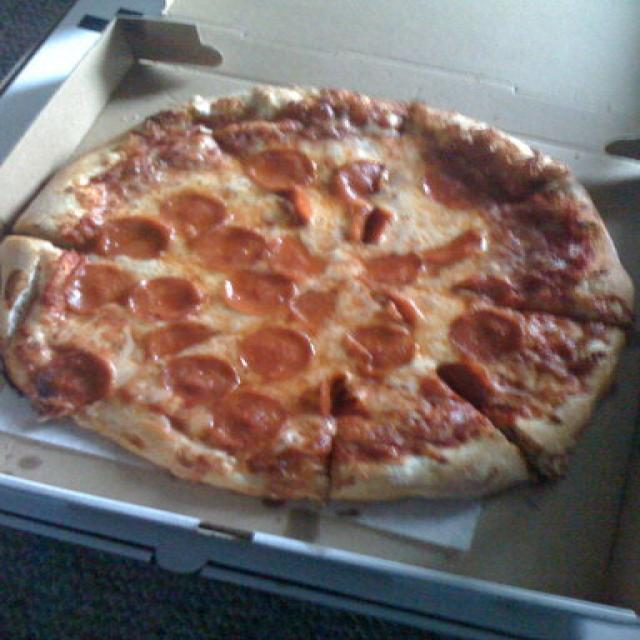Pepperoni: (74, 217, 178, 260), (242, 319, 312, 382), (446, 301, 526, 355), (208, 391, 280, 449), (158, 358, 245, 404), (127, 321, 233, 358), (290, 372, 365, 421), (65, 257, 145, 302), (112, 279, 191, 324), (358, 282, 438, 326), (424, 358, 496, 406), (226, 266, 286, 318), (138, 199, 230, 232), (247, 148, 313, 191), (192, 232, 267, 268), (359, 332, 424, 372), (355, 251, 417, 292), (298, 282, 348, 332), (268, 239, 326, 278), (338, 203, 394, 236), (332, 160, 382, 193), (419, 236, 486, 260)
Pizza: (3, 88, 630, 500)
